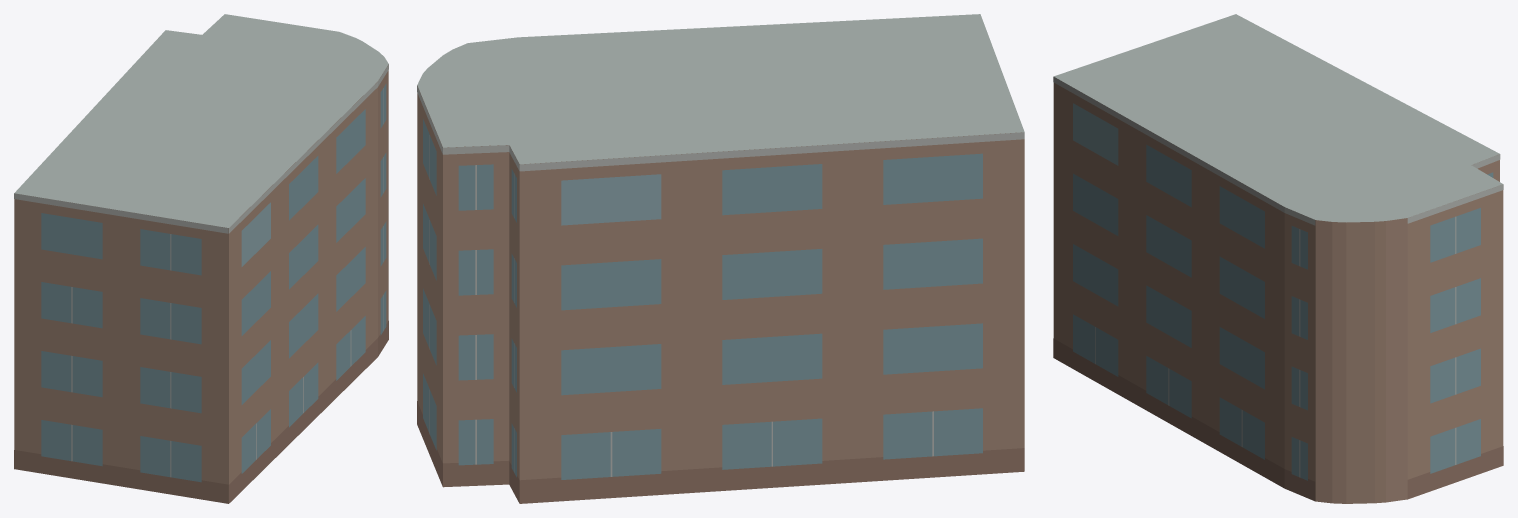
The model's file is survey-upis-32739269.glb.
The picture shows the model from 3 angles, left to right: view 1: azimuth 30°, elevation 25°; view 2: azimuth 150°, elevation 25°; view 3: azimuth 270°, elevation 25°; orthographic projection. The views are drawn at different scales.
Parts seen in each view (by area): view 1: survey-upis-32739269.tmp; view 2: survey-upis-32739269.tmp; view 3: survey-upis-32739269.tmp.
Boxes of the visible parts, x1,y1,x2,y2 form: survey-upis-32739269.tmp: [14, 14, 388, 503]; survey-upis-32739269.tmp: [417, 14, 1024, 503]; survey-upis-32739269.tmp: [1053, 14, 1503, 503].
Size of the model in its own units: 18.58 by 11.7 by 16.96.
